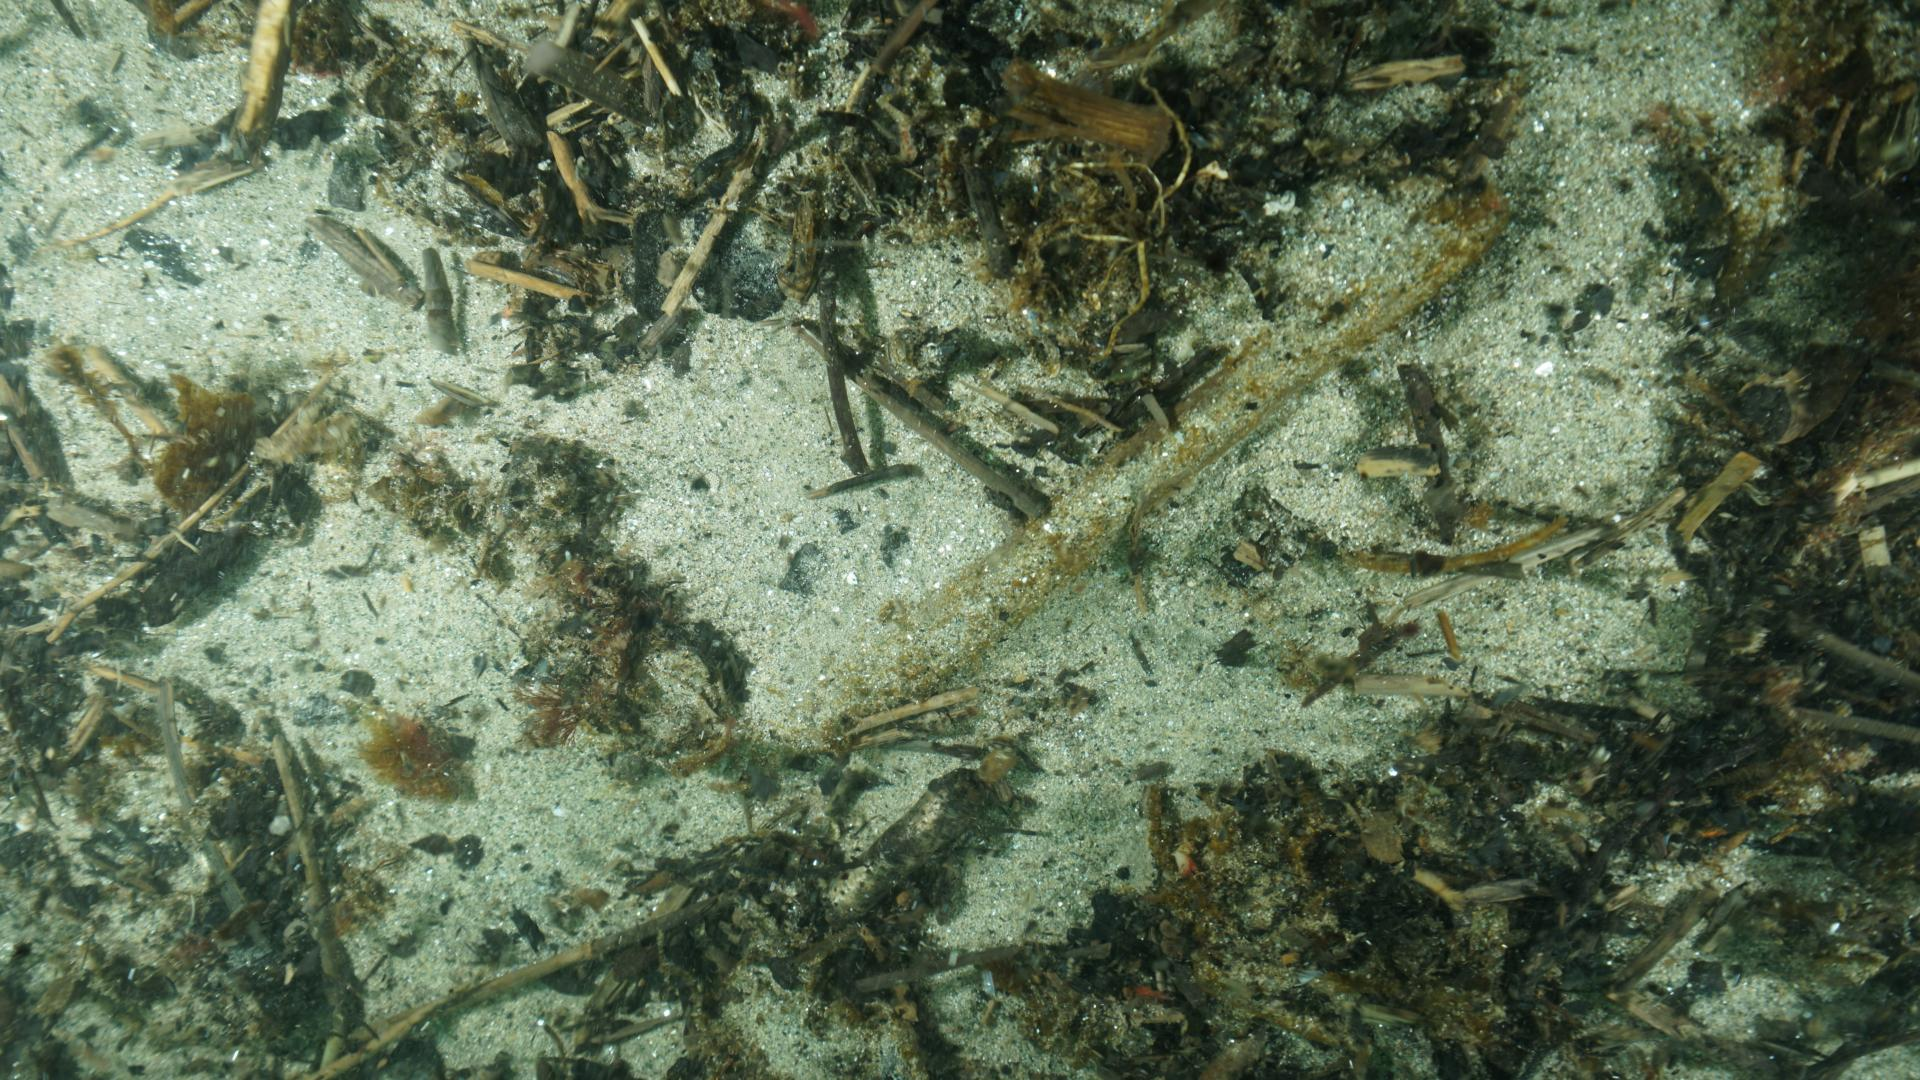wood: (818, 206, 1501, 729)
